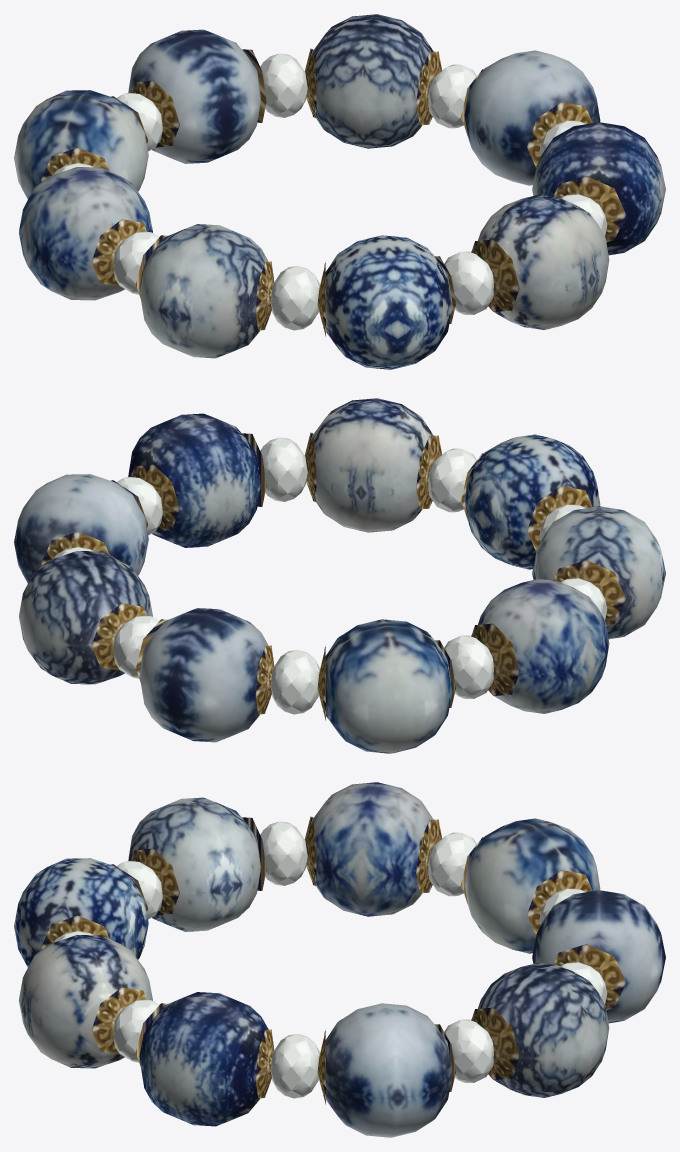
3 views of the same model, one above another, from view 1: azimuth 30°, elevation 25°; view 2: azimuth 150°, elevation 25°; view 3: azimuth 270°, elevation 25° (orthographic).
Visible parts, largest first — view 1: Gema Bracelet (EMP (SWK) 43R); view 2: Gema Bracelet (EMP (SWK) 43R); view 3: Gema Bracelet (EMP (SWK) 43R).
Boxes of the visible parts, left/top/right/bottom form: Gema Bracelet (EMP (SWK) 43R): left=14, top=14, right=665, bottom=369; Gema Bracelet (EMP (SWK) 43R): left=14, top=398, right=665, bottom=753; Gema Bracelet (EMP (SWK) 43R): left=14, top=782, right=665, bottom=1137.
Size of the model in its own units: 20.07 by 4.1 by 19.98.
Materials: 1 (1 with a texture image).
